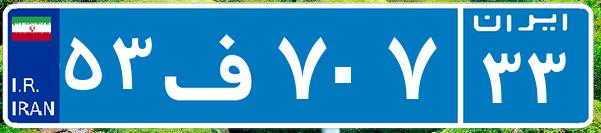0: (330, 28, 385, 110)
3: (475, 38, 525, 113), (110, 28, 158, 105), (525, 38, 570, 115)
5: (57, 26, 110, 107)
7: (385, 28, 445, 110), (273, 28, 330, 110)
ف: (158, 15, 273, 115)
